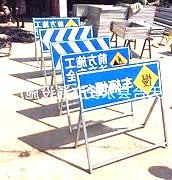sign: (72, 66, 165, 103), (62, 56, 125, 73), (34, 19, 82, 27)
